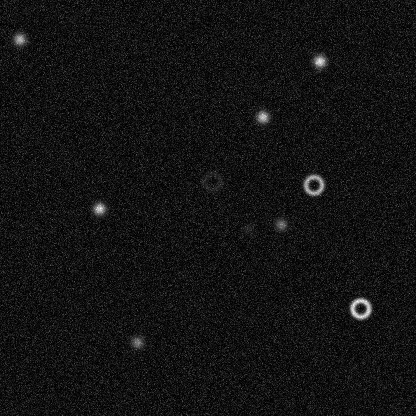Ring: (200, 169, 224, 193), (301, 172, 325, 196), (348, 296, 372, 320)
Spot: (11, 31, 27, 47), (272, 216, 288, 232), (129, 334, 145, 350), (254, 108, 270, 124), (91, 200, 107, 216), (311, 53, 327, 69), (240, 220, 256, 236)
